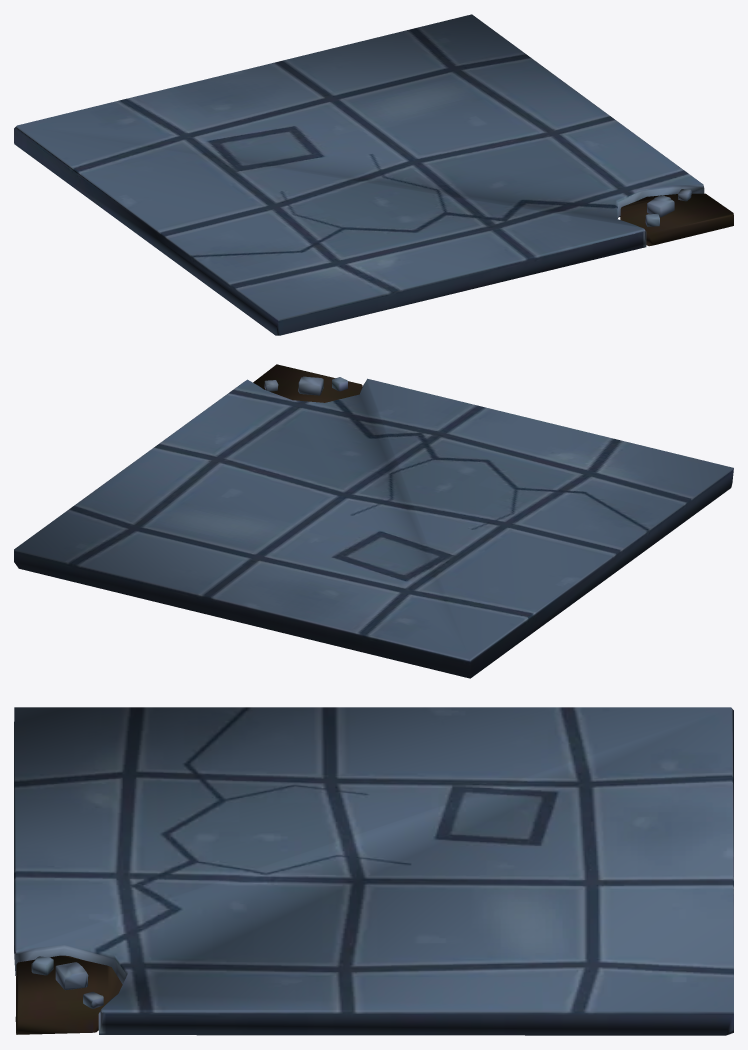
Rendered from floor-cracked.glb.
The picture shows the model from 3 angles, top to bottom: view 1: azimuth 30°, elevation 25°; view 2: azimuth 150°, elevation 25°; view 3: azimuth 270°, elevation 25°; orthographic projection. The views are drawn at different scales.
Visible parts, largest first — view 1: slab; view 2: slab; view 3: slab.
Part boxes in pixels (box(x1,y1,x2,y2)): slab: box(14, 14, 733, 335); slab: box(14, 364, 733, 678); slab: box(14, 707, 733, 1035).
Bounding box in the file's own units: 2 × 0.1008 × 2.
1 material, 1 textured.
